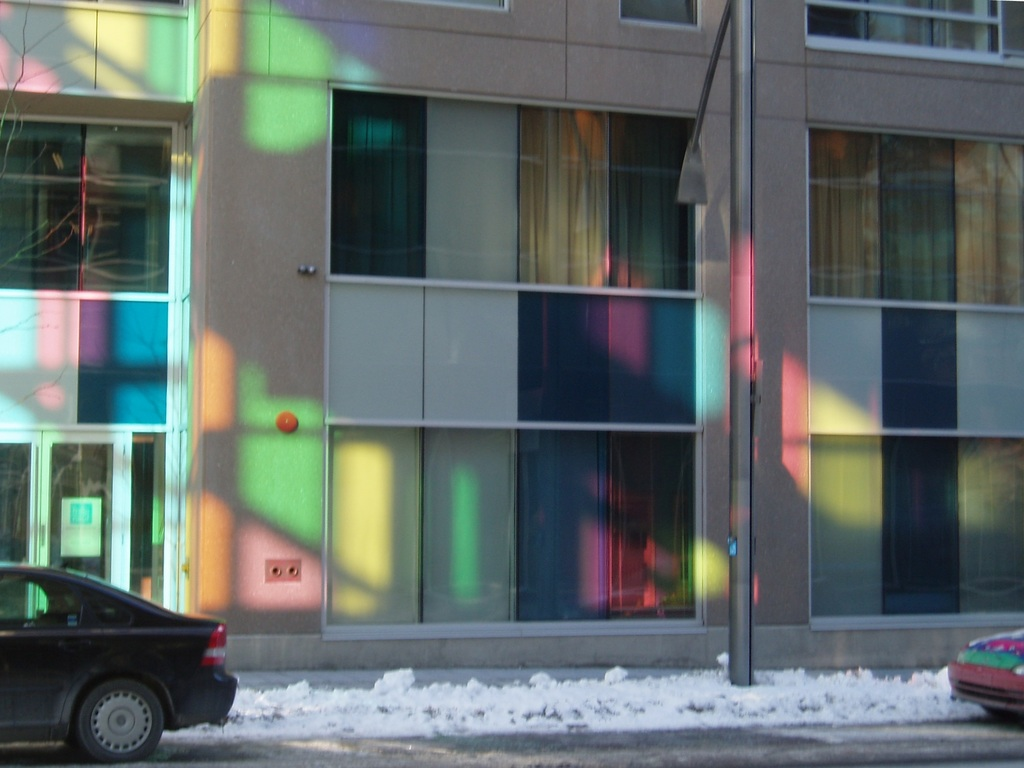Window: (326, 422, 701, 625), (324, 83, 696, 286), (806, 130, 1021, 302), (809, 437, 1022, 610), (0, 114, 173, 292), (0, 434, 157, 600), (809, 0, 998, 47), (622, 0, 694, 24)
